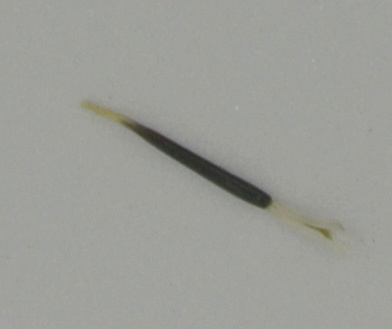เมล็ดดีเรียวยาว: (80, 101, 345, 244)
